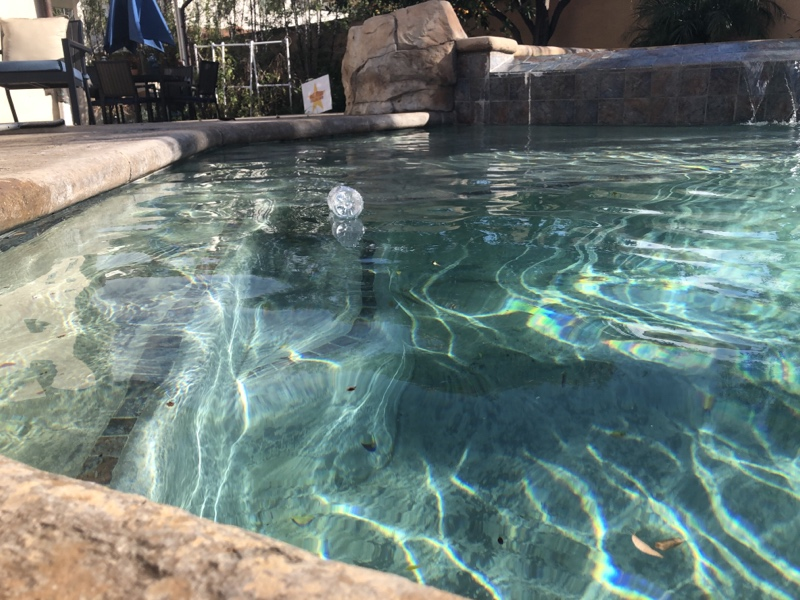Plastic Bottle: (325, 181, 367, 223)
